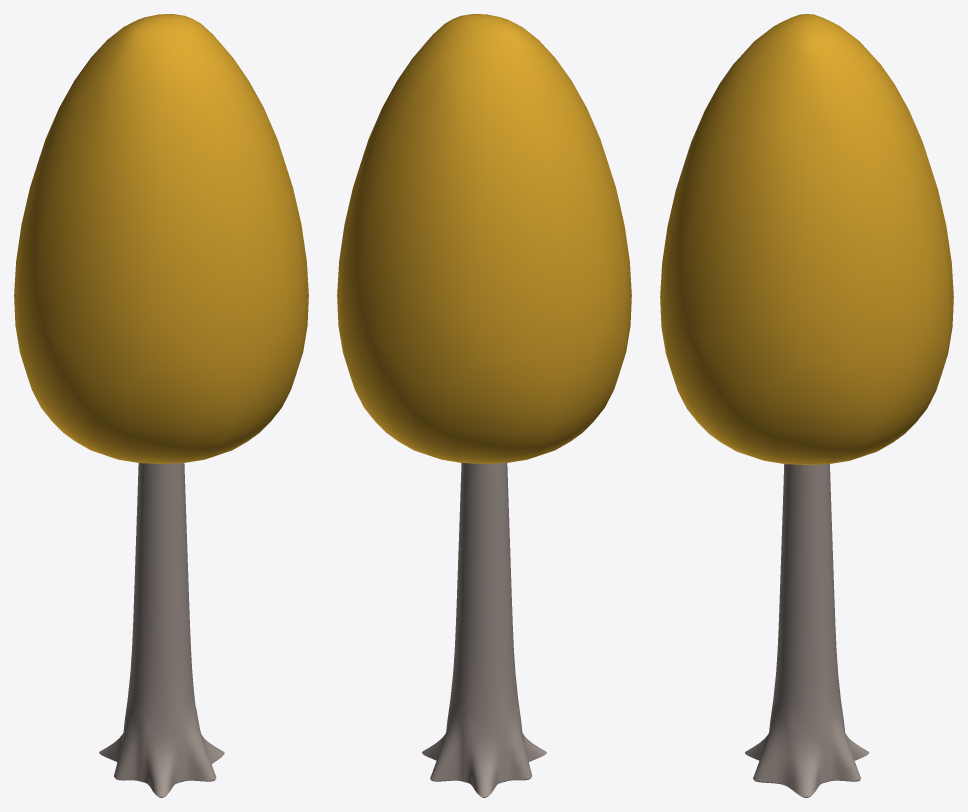
Rendered from SM_B_Tree_01.fbx.
3 renders of one model, left to right at view 1: azimuth 30°, elevation 25°; view 2: azimuth 150°, elevation 25°; view 3: azimuth 270°, elevation 25°, orthographic.
Parts seen in each view (by area): view 1: SM_B_Tree_01; view 2: SM_B_Tree_01; view 3: SM_B_Tree_01.
Part boxes in pixels (<box>): SM_B_Tree_01: <box>14,14,308,797</box>; SM_B_Tree_01: <box>337,14,631,797</box>; SM_B_Tree_01: <box>660,14,953,797</box>.
Size of the model in its own units: 81.57 by 230 by 81.9.
